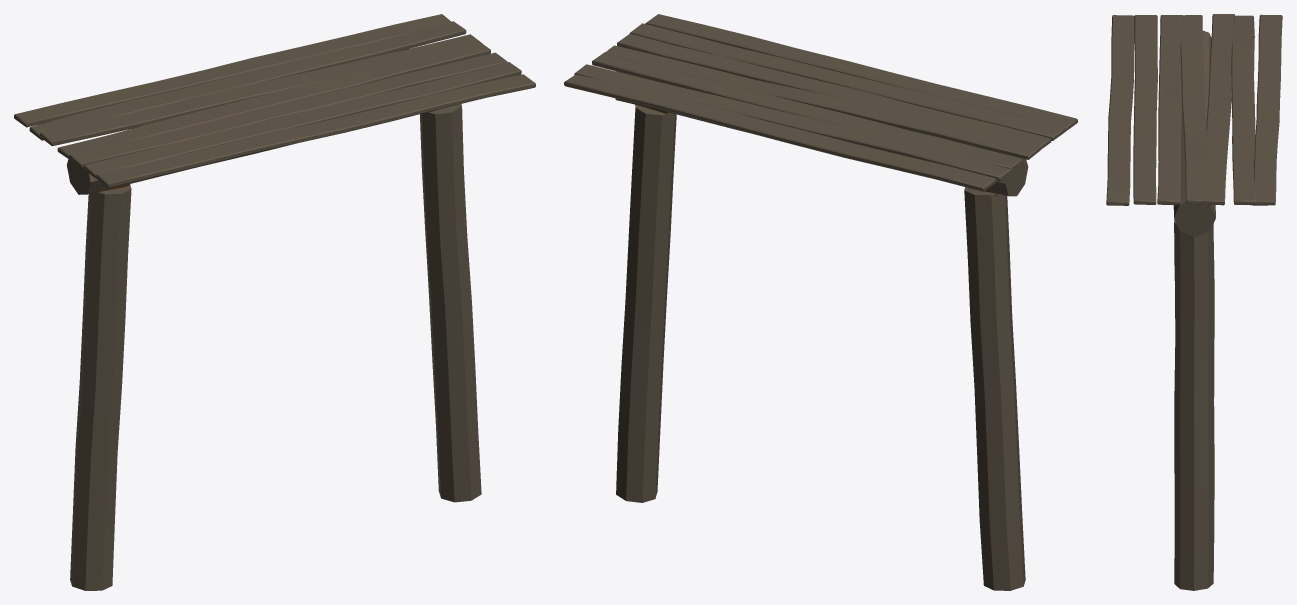
File: stuetzbalken.glb
The picture shows the model from 3 angles, left to right: view 1: azimuth 30°, elevation 25°; view 2: azimuth 150°, elevation 25°; view 3: azimuth 270°, elevation 25°; orthographic projection. The views are drawn at different scales.
Parts seen in each view (by area): view 1: stuetzbalken; view 2: stuetzbalken; view 3: stuetzbalken.
Boxes of the visible parts, x1=… form: stuetzbalken: x1=14, y1=14, x2=535, y2=590; stuetzbalken: x1=564, y1=14, x2=1077, y2=590; stuetzbalken: x1=1106, y1=14, x2=1282, y2=590.
Bounding box in the file's own units: 2.71 × 2.68 × 1.08.
